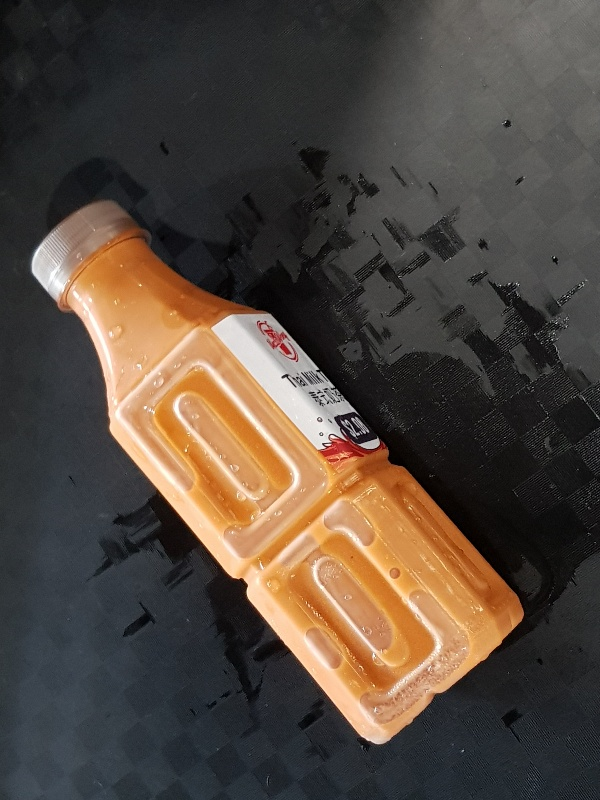Thai Milk Tea: (28, 195, 524, 746)
